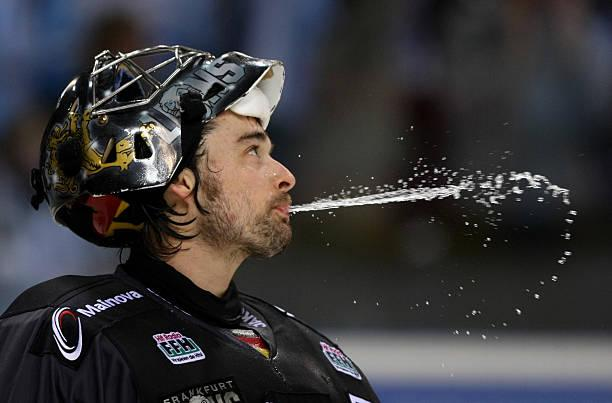Spitting: (17, 23, 551, 302)
